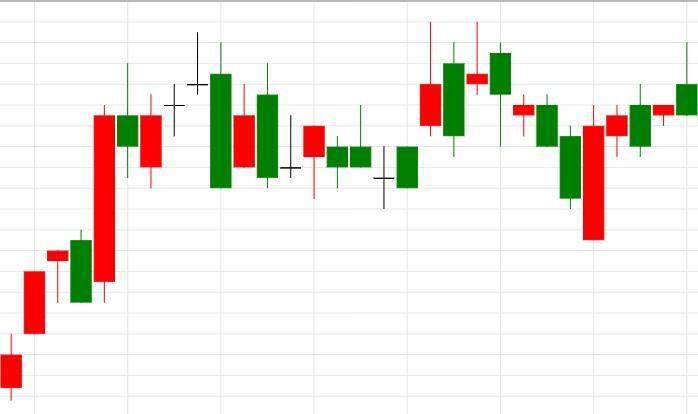bearish_engulfing_fall: (559, 84, 652, 241)
bullish_engulfing_rise: (465, 22, 606, 242)
